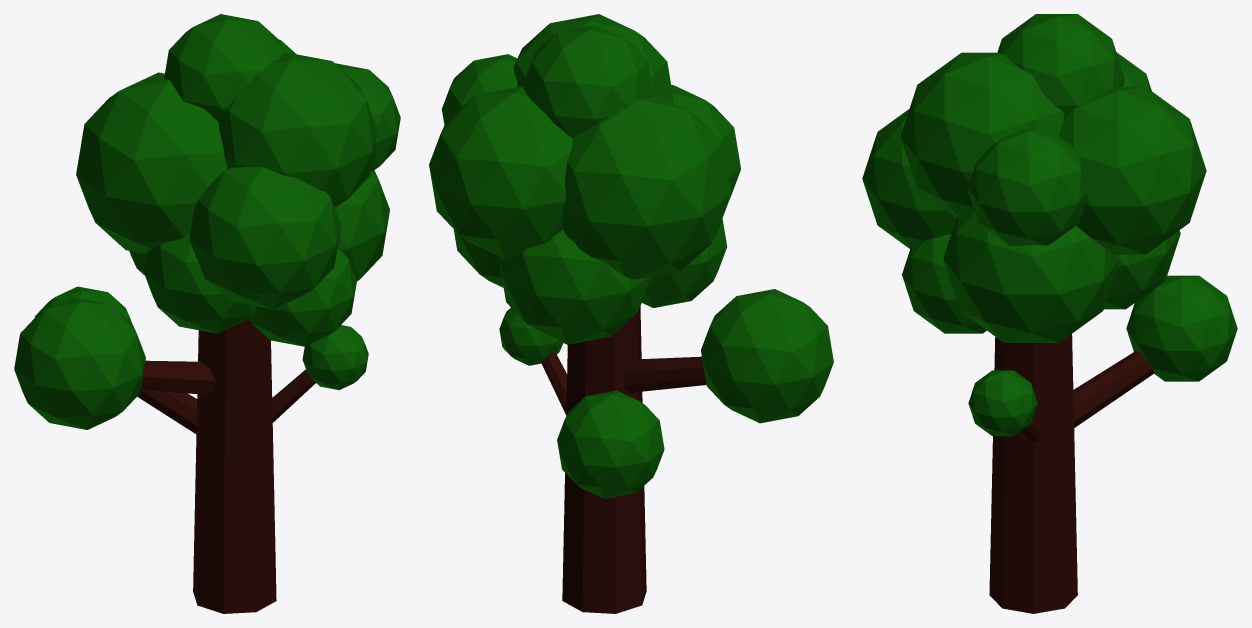
Rendered from tree.fbx.
3 renders of one model, left to right at view 1: azimuth 30°, elevation 25°; view 2: azimuth 150°, elevation 25°; view 3: azimuth 270°, elevation 25°, orthographic. The views are drawn at different scales.
Visible parts, largest first — view 1: Cylinder; view 2: Cylinder; view 3: Cylinder.
Part boxes in pixels (left/top/right/bottom): Cylinder: left=14, top=14, right=400, bottom=613; Cylinder: left=429, top=14, right=833, bottom=613; Cylinder: left=862, top=14, right=1237, bottom=613.
Bounding box in the file's own units: 9.83 × 14.49 × 8.49.
1 material, 1 textured.
